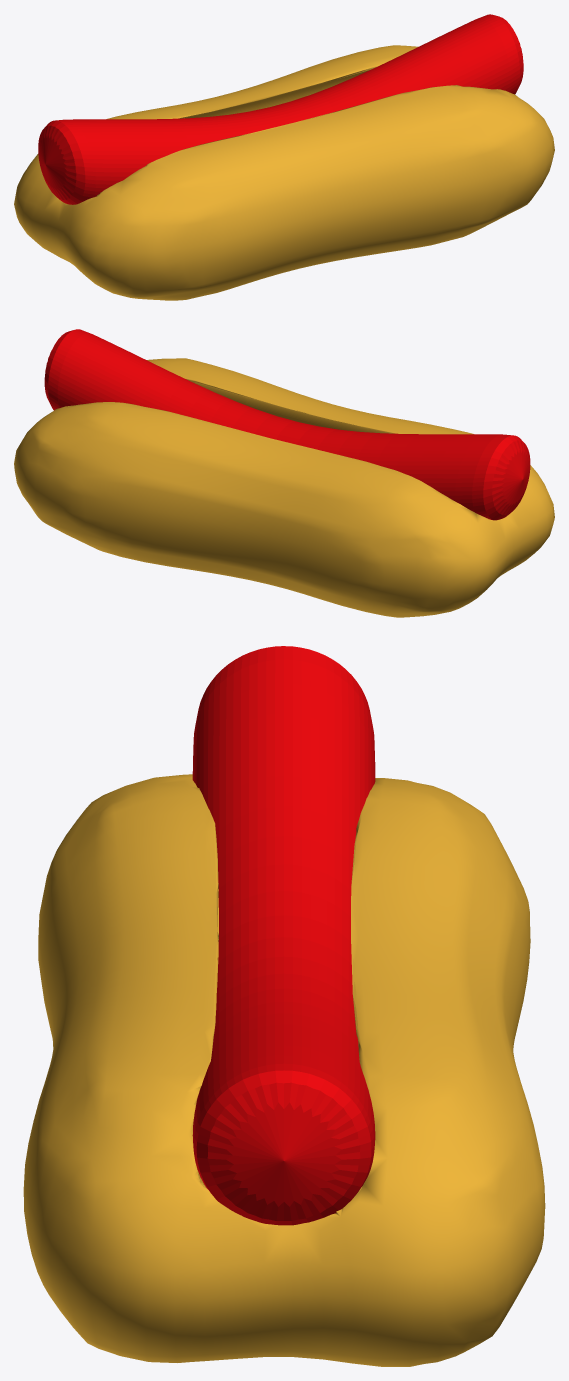
Rendered from hot dog.fbx.
The picture shows the model from 3 angles, top to bottom: view 1: azimuth 30°, elevation 25°; view 2: azimuth 150°, elevation 25°; view 3: azimuth 270°, elevation 25°; orthographic projection. The views are drawn at different scales.
Parts seen in each view (by area): view 1: Cylinder.003; view 2: Cylinder.003; view 3: Cylinder.003.
Boxes of the visible parts, left/top/right/bottom form: Cylinder.003: left=14, top=14, right=554, bottom=300; Cylinder.003: left=14, top=329, right=554, bottom=617; Cylinder.003: left=23, top=646, right=545, bottom=1366.
Size of the model in its own units: 42.73 by 15.16 by 20.42.
